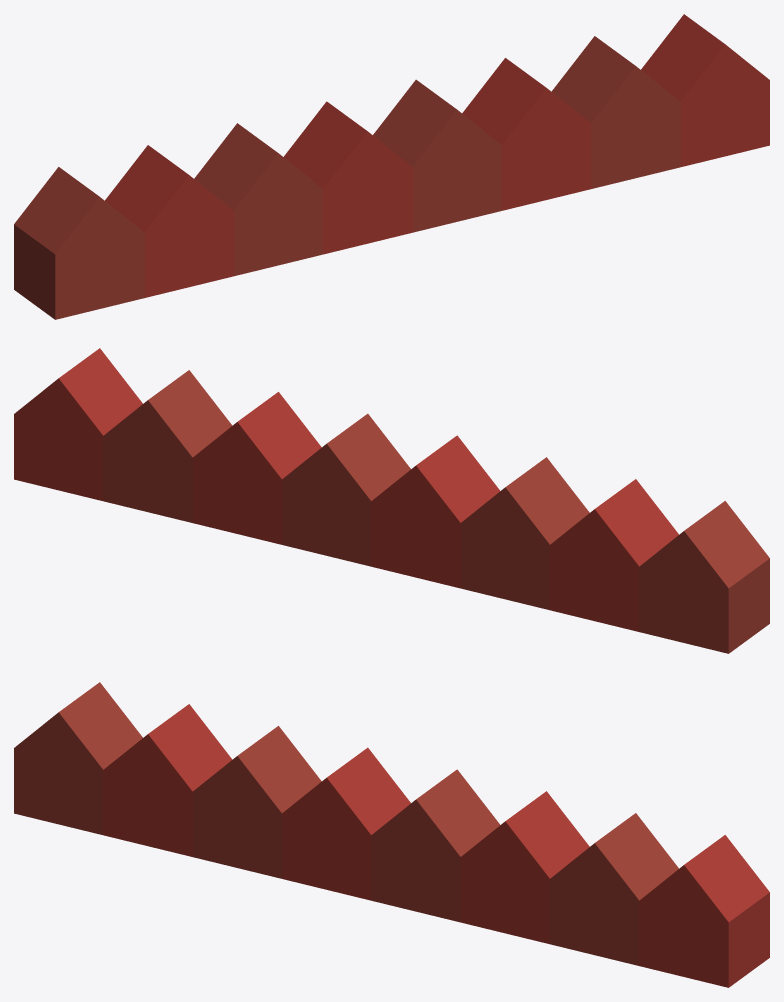
The model's file is FMS_Garden_Edging_Brick.fbx.
3 views of the same model, one above another, from view 1: azimuth 30°, elevation 25°; view 2: azimuth 150°, elevation 25°; view 3: azimuth 330°, elevation 25° (orthographic).
Visible parts, largest first — view 1: FMS_Garden_Edging_Brick_Body; view 2: FMS_Garden_Edging_Brick_Body; view 3: FMS_Garden_Edging_Brick_Body.
Part boxes in pixels (x1,y1,x2,y2): FMS_Garden_Edging_Brick_Body: (14,14,769,319); FMS_Garden_Edging_Brick_Body: (14,348,769,653); FMS_Garden_Edging_Brick_Body: (14,682,769,987).
Bounding box in the file's own units: 1 × 0.15 × 0.1.
